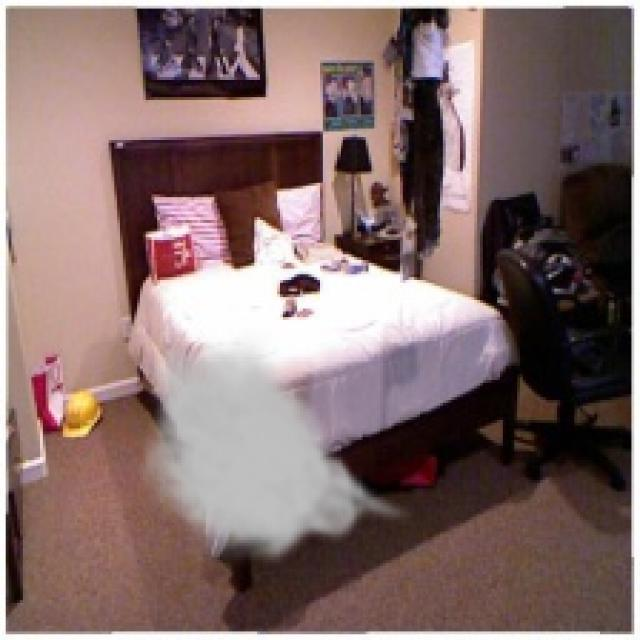Smoke: (137, 328, 414, 568)
